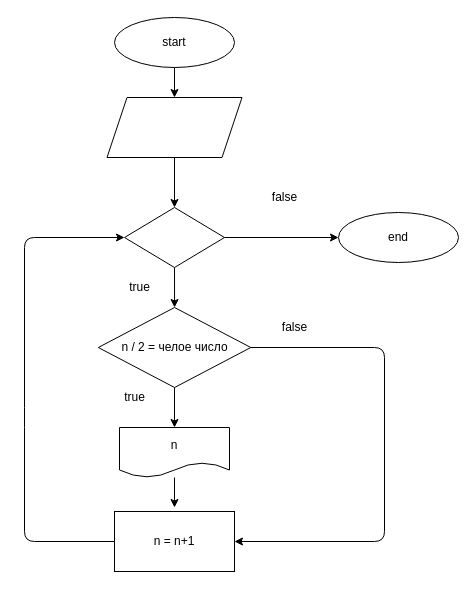
This 476x589 diagram has some shape labels left out. Each missing label, with the box of its shape:
array[] index=0 n=1 size=N: (106, 96, 242, 158)
n <= N: (124, 206, 224, 268)
